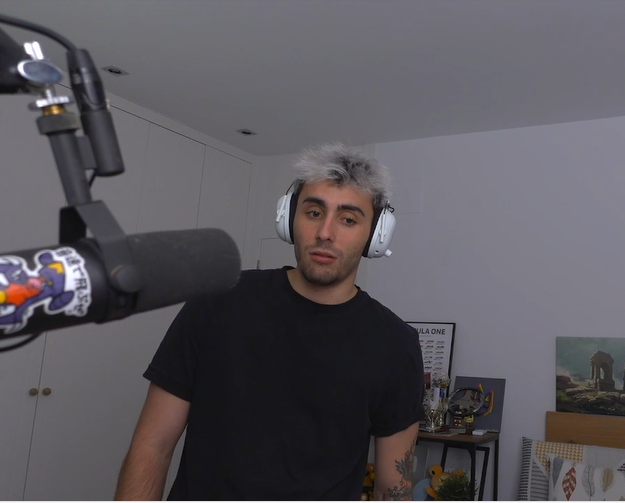person: (113, 142, 427, 500)
